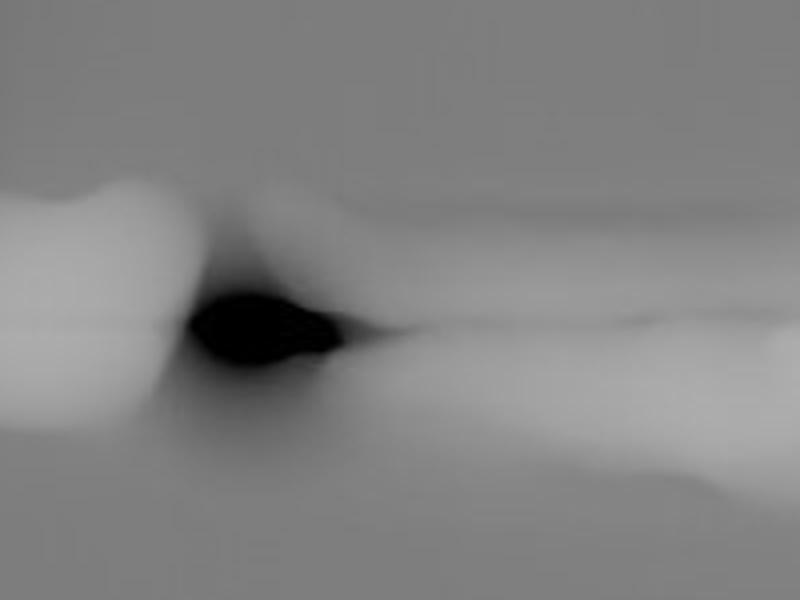defect: (186, 292, 348, 373)
